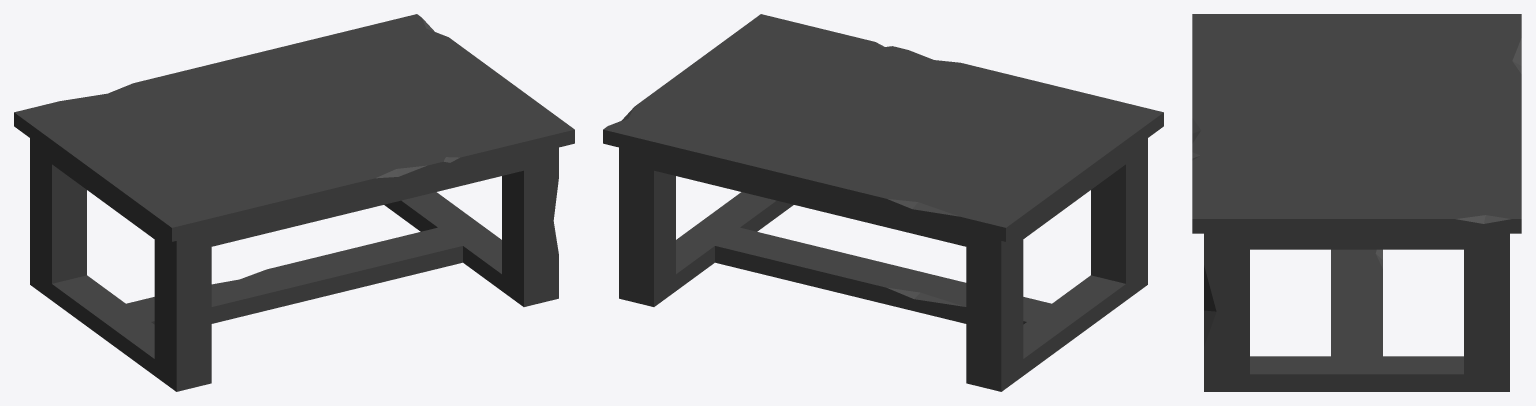
The model's file is SM_Prop_CoffeeTable_01.glb.
3 renders of one model, left to right at view 1: azimuth 30°, elevation 25°; view 2: azimuth 150°, elevation 25°; view 3: azimuth 270°, elevation 25°, orthographic. The views are drawn at different scales.
Parts seen in each view (by area): view 1: SM_Prop_CoffeeTable_01; view 2: SM_Prop_CoffeeTable_01; view 3: SM_Prop_CoffeeTable_01.
Part boxes in pixels (box(x1,y1,x2,y2)): SM_Prop_CoffeeTable_01: box(14, 14, 574, 391); SM_Prop_CoffeeTable_01: box(603, 14, 1163, 391); SM_Prop_CoffeeTable_01: box(1192, 14, 1521, 391).
Size of the model in its own units: 1.05 by 0.424 by 0.7112.
1 material, 1 textured.
